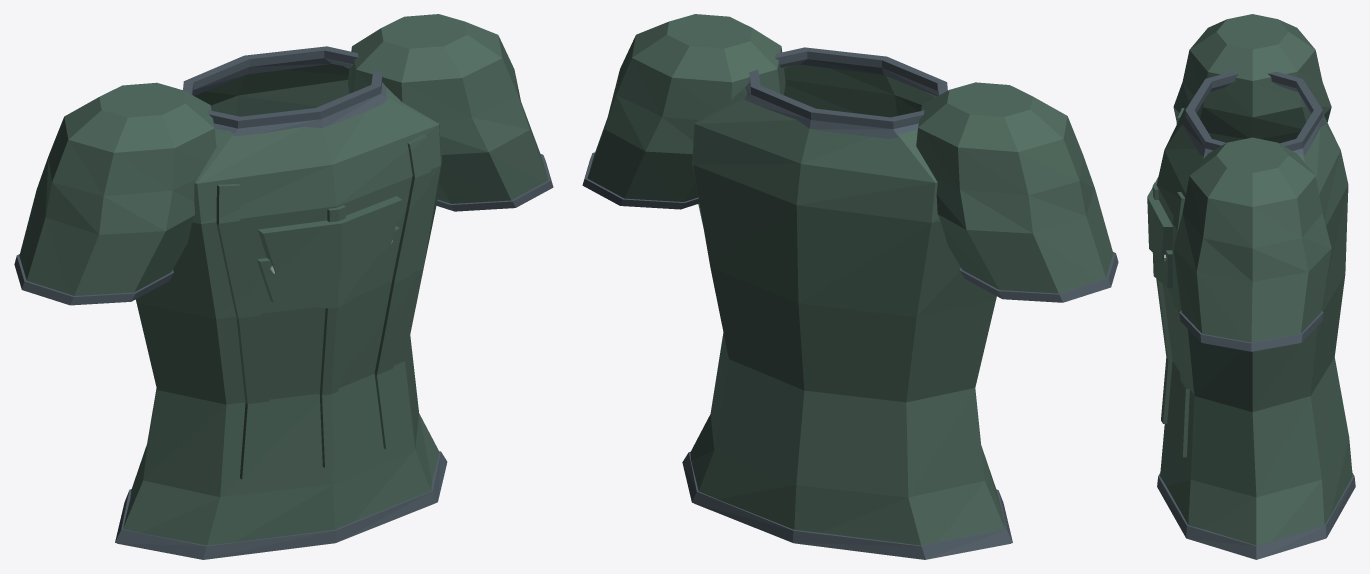
Rendered from studded_chest-male-scaledHide.glb.
The picture shows the model from 3 angles, left to right: view 1: azimuth 30°, elevation 25°; view 2: azimuth 150°, elevation 25°; view 3: azimuth 270°, elevation 25°; orthographic projection. The views are drawn at different scales.
Visible parts, largest first — view 1: studded tunic torso, studded upper sleeve -1, studded upper sleeve 1, Sewn tunic side facing -1, Lapped hide reinforcement studded tunic torso 0, Fitted tunic neckline, Sewn tunic side facing 1, Bound tunic hem, Lapped hide reinforcement studded tunic torso 1, Reinforced tunic closure, Sleeve cuff binding -1, Sleeve cuff binding 1; view 2: studded tunic torso, studded upper sleeve -1, studded upper sleeve 1, Fitted tunic neckline, Bound tunic hem, Sleeve cuff binding -1, Sleeve cuff binding 1; view 3: studded tunic torso, studded upper sleeve 1, studded upper sleeve -1, Fitted tunic neckline, Bound tunic hem, Sewn tunic side facing 1, Sleeve cuff binding 1, Lapped hide reinforcement studded tunic torso 0, Reinforced tunic closure, Lapped hide reinforcement studded tunic torso 1.
Part boxes in pixels (x1=…): studded tunic torso: x1=117, y1=64, x2=441, y2=559; studded upper sleeve -1: x1=19, y1=82, x2=216, y2=295; studded upper sleeve 1: x1=348, y1=14, x2=548, y2=203; Sewn tunic side facing -1: x1=216, y1=184, x2=269, y2=479; Lapped hide reinforcement studded tunic torso 0: x1=258, y1=196, x2=402, y2=280; Fitted tunic neckline: x1=183, y1=46, x2=387, y2=136; Sewn tunic side facing 1: x1=374, y1=134, x2=431, y2=449; Bound tunic hem: x1=115, y1=451, x2=447, y2=559; Lapped hide reinforcement studded tunic torso 1: x1=257, y1=226, x2=399, y2=309; Reinforced tunic closure: x1=319, y1=205, x2=345, y2=468; Sleeve cuff binding -1: x1=14, y1=254, x2=173, y2=305; Sleeve cuff binding 1: x1=436, y1=154, x2=553, y2=211; studded tunic torso: x1=690, y1=64, x2=1010, y2=559; studded upper sleeve -1: x1=916, y1=82, x2=1113, y2=293; studded upper sleeve 1: x1=587, y1=14, x2=785, y2=201; Fitted tunic neckline: x1=744, y1=47, x2=947, y2=138; Bound tunic hem: x1=682, y1=452, x2=1012, y2=559; Sleeve cuff binding -1: x1=960, y1=252, x2=1118, y2=302; Sleeve cuff binding 1: x1=582, y1=152, x2=699, y2=209; studded tunic torso: x1=1156, y1=93, x2=1352, y2=559; studded upper sleeve 1: x1=1173, y1=137, x2=1331, y2=342; studded upper sleeve -1: x1=1173, y1=14, x2=1331, y2=143; Fitted tunic neckline: x1=1182, y1=71, x2=1324, y2=156; Bound tunic hem: x1=1157, y1=473, x2=1355, y2=559; Sewn tunic side facing 1: x1=1172, y1=192, x2=1189, y2=457; Sleeve cuff binding 1: x1=1179, y1=310, x2=1323, y2=351; Lapped hide reinforcement studded tunic torso 0: x1=1147, y1=177, x2=1172, y2=260; Reinforced tunic closure: x1=1152, y1=182, x2=1172, y2=423; Lapped hide reinforcement studded tunic torso 1: x1=1152, y1=250, x2=1172, y2=287.
Size of the model in its own units: 3.57 by 2.86 by 1.37.
